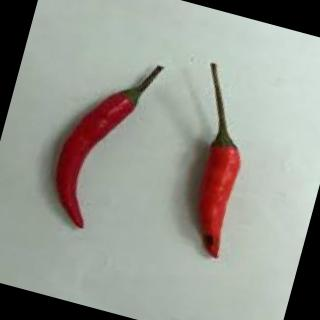Cabai Merah: (54, 65, 164, 230), (195, 64, 241, 259)
